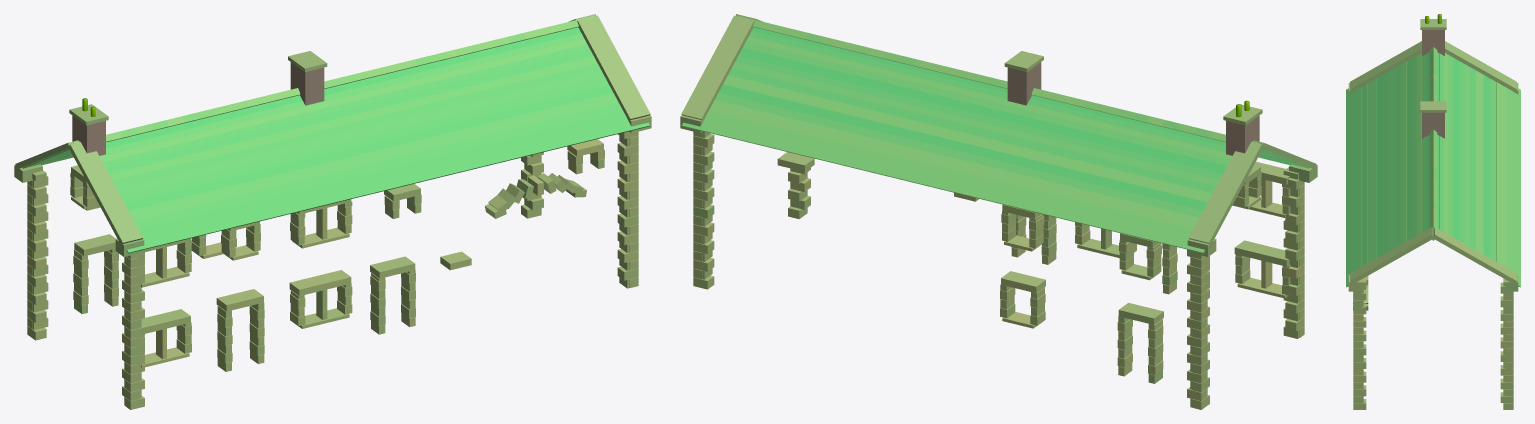
File: SM_Bld_033_Stone.glb
3 renders of one model, left to right at view 1: azimuth 30°, elevation 25°; view 2: azimuth 150°, elevation 25°; view 3: azimuth 270°, elevation 25°, orthographic. The views are drawn at different scales.
Parts seen in each view (by area): view 1: SM_Bld_033_Stone; view 2: SM_Bld_033_Stone; view 3: SM_Bld_033_Stone.
Part boxes in pixels (bbox=[...]): SM_Bld_033_Stone: bbox=[14, 14, 651, 409]; SM_Bld_033_Stone: bbox=[680, 14, 1317, 409]; SM_Bld_033_Stone: bbox=[1346, 14, 1520, 409].
Size of the model in its own units: 18.72 by 9.06 by 6.93.
